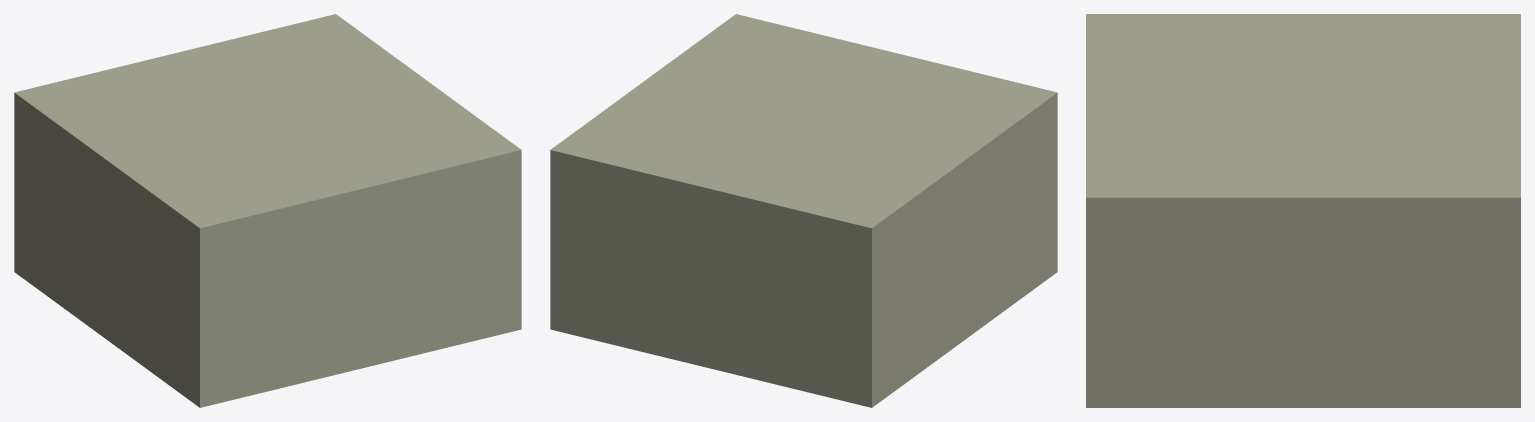
File: mainmenu.fbx
3 views of the same model, side by side, from view 1: azimuth 30°, elevation 25°; view 2: azimuth 150°, elevation 25°; view 3: azimuth 270°, elevation 25° (orthographic). The views are drawn at different scales.
Parts seen in each view (by area): view 1: MM_room, pillar2, pillar3; view 2: MM_room, pillar, pillar1, pillar3; view 3: MM_room, pillar2, pillar1.
Part boxes in pixels (<box>): MM_room: <box>14,14,521,407</box>; pillar2: <box>508,146,521,331</box>; pillar3: <box>195,223,207,407</box>; MM_room: <box>550,14,1057,407</box>; pillar: <box>863,223,876,407</box>; pillar1: <box>550,146,562,331</box>; pillar3: <box>1047,90,1057,275</box>; MM_room: <box>1086,14,1520,407</box>; pillar2: <box>1086,193,1097,407</box>; pillar1: <box>1509,193,1520,407</box>.
Size of the model in its own units: 150 by 80 by 150.
